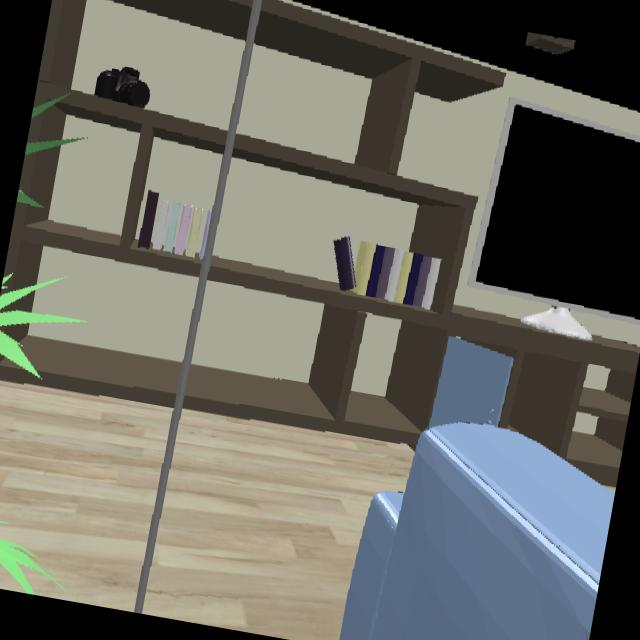book: (333, 237, 440, 308), (138, 192, 205, 258)
bookshelf: (1, 0, 640, 487)
monitor: (467, 102, 640, 340)
sofa: (340, 422, 615, 640)
